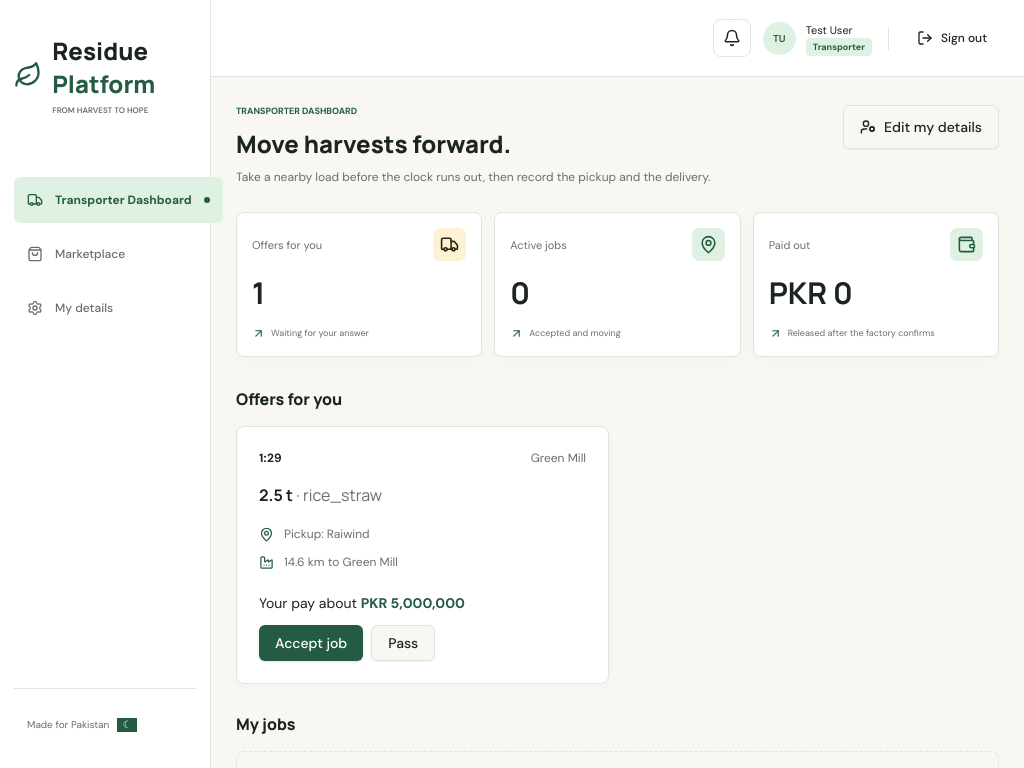
Test case: transporter: offers › accepting sends the offer and confirms
Click the button "Accept job". click: (311, 643)
box: [259,625,363,661]
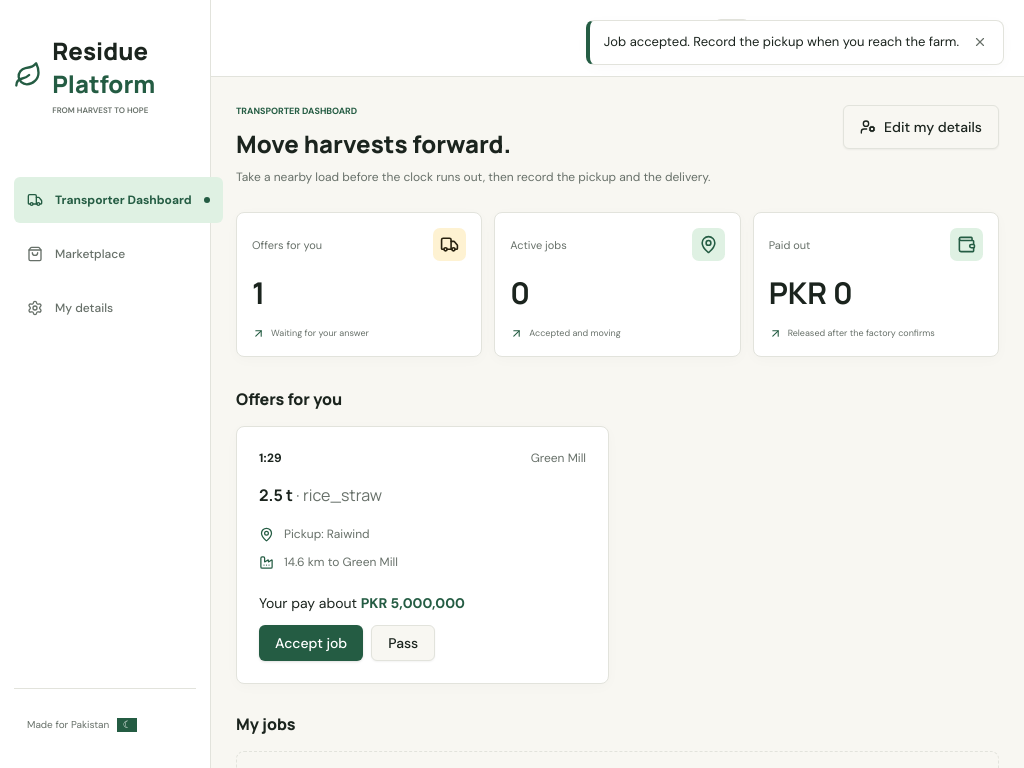
Now the text "Job accepted. Record the pickup when you reach the farm." is shown, box [604,33,959,52]
